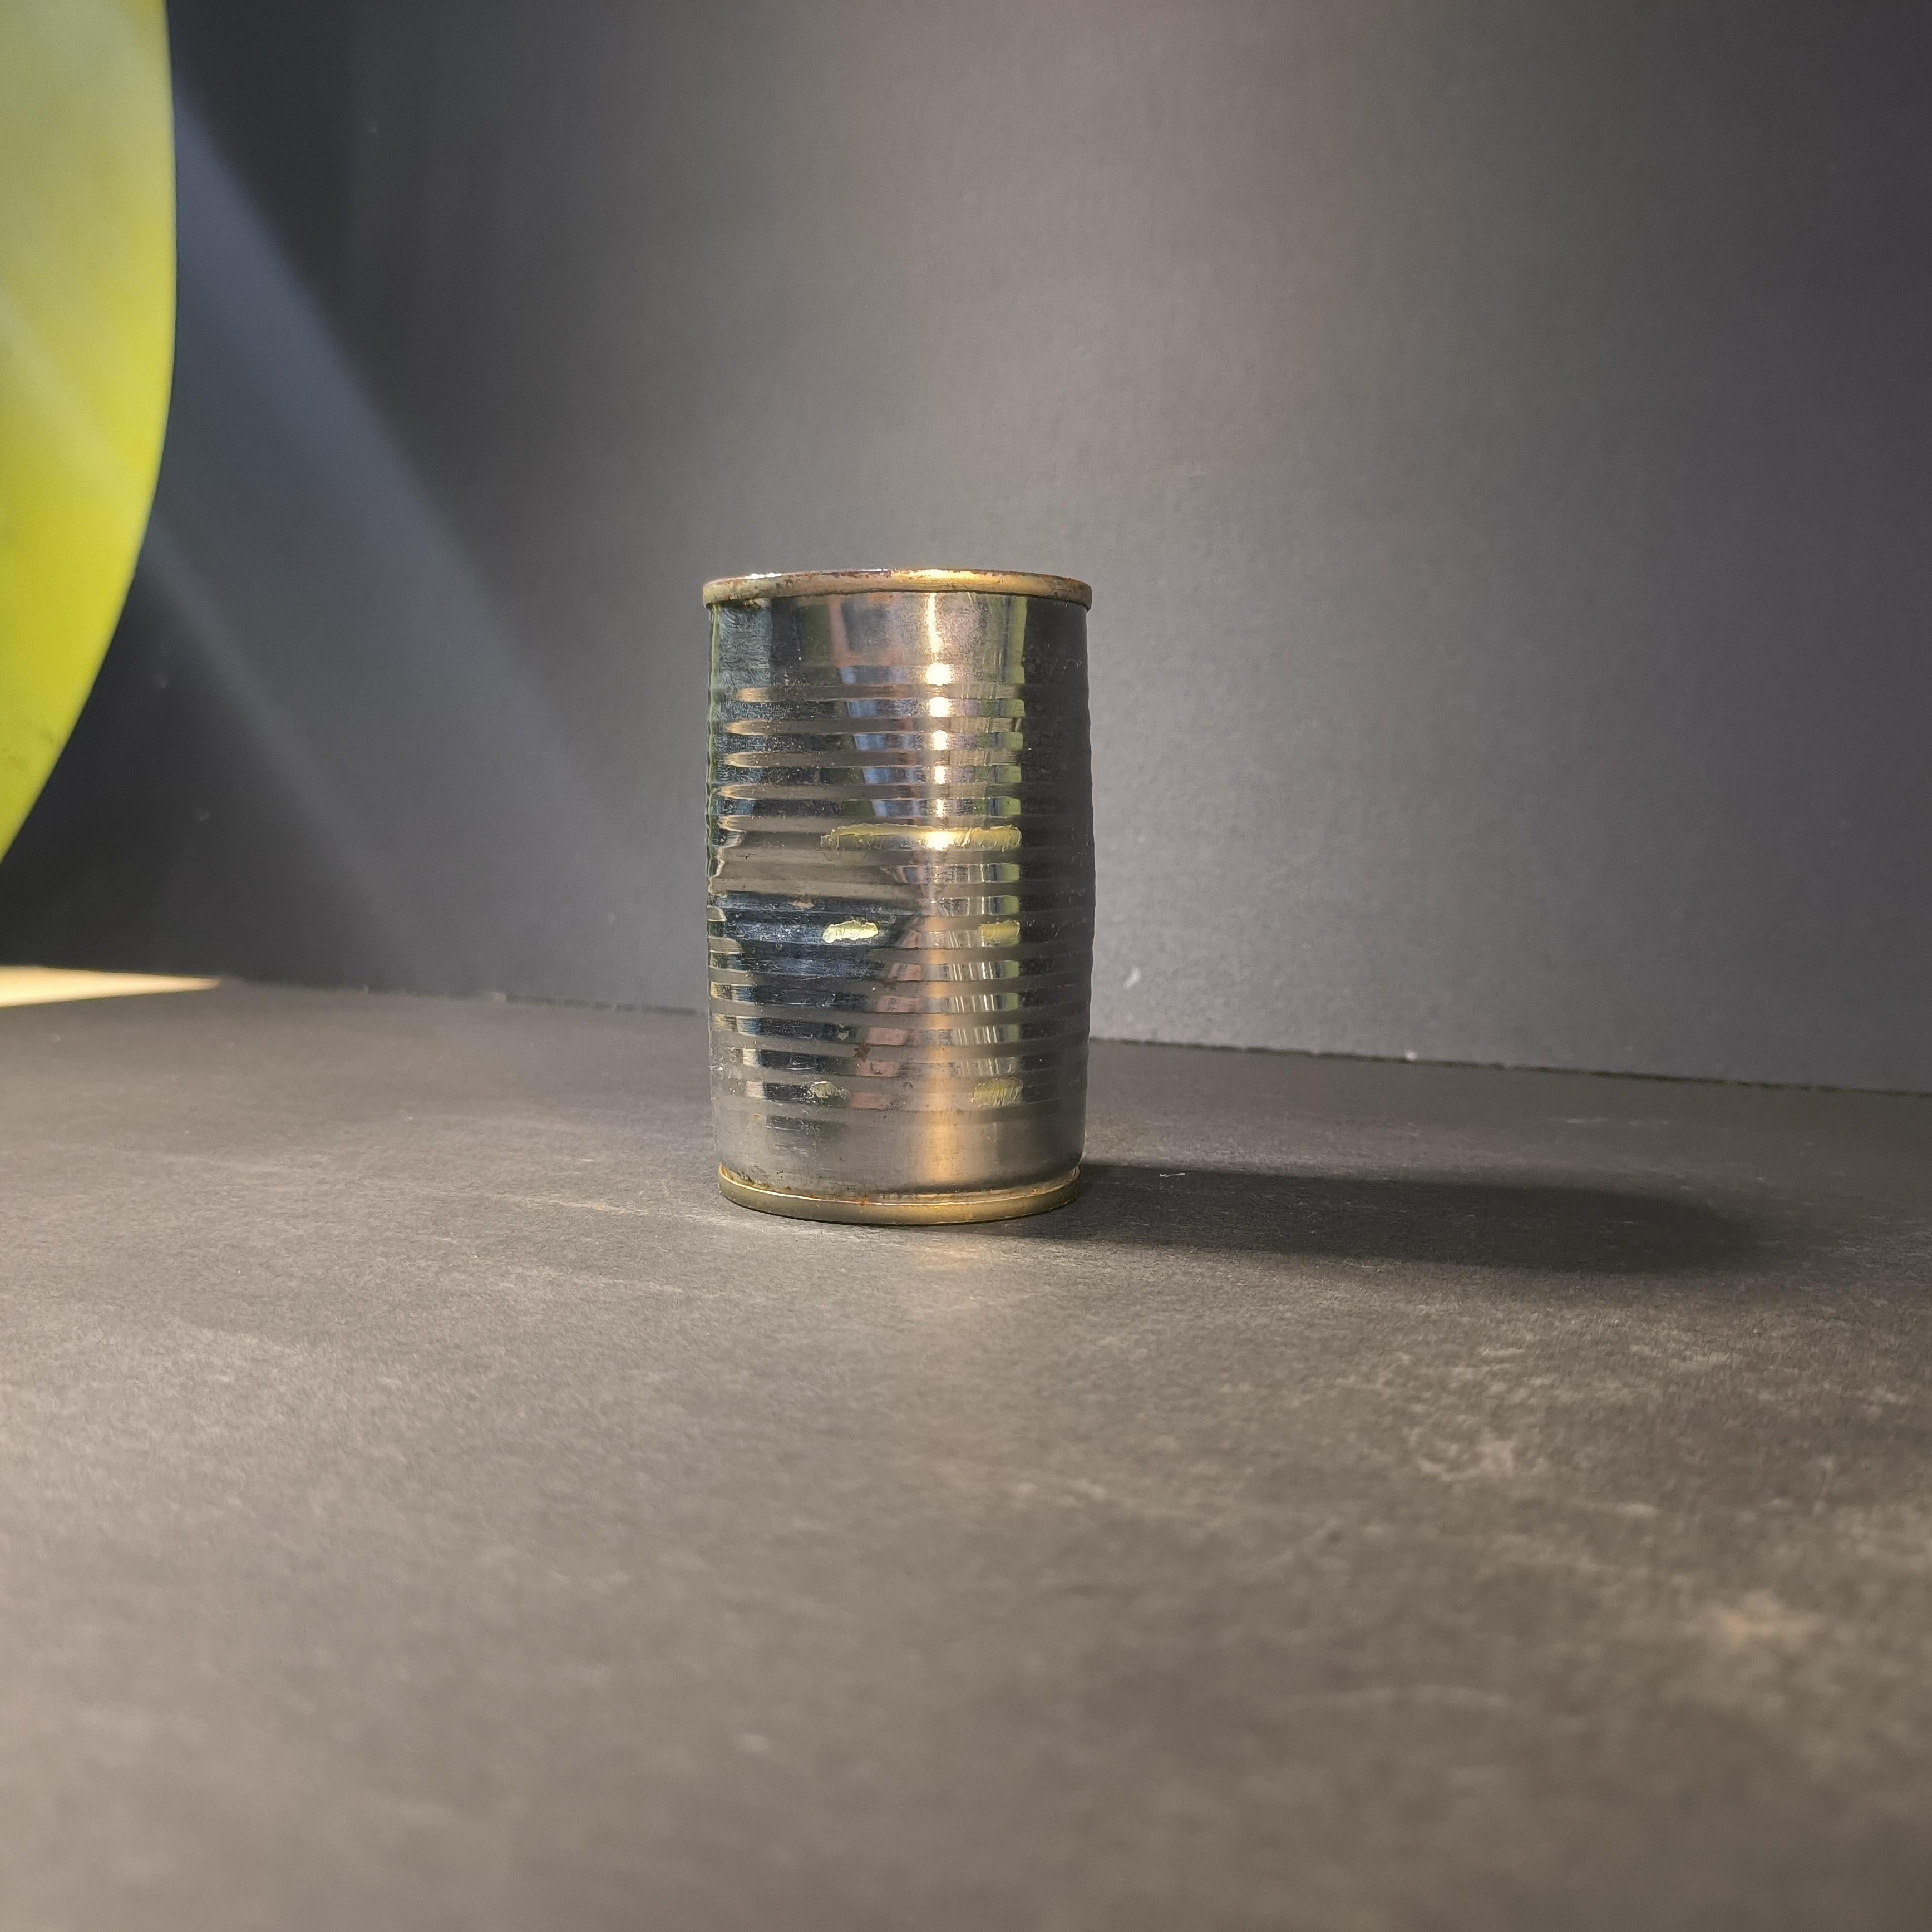Dented: (682, 520, 1124, 1249)
